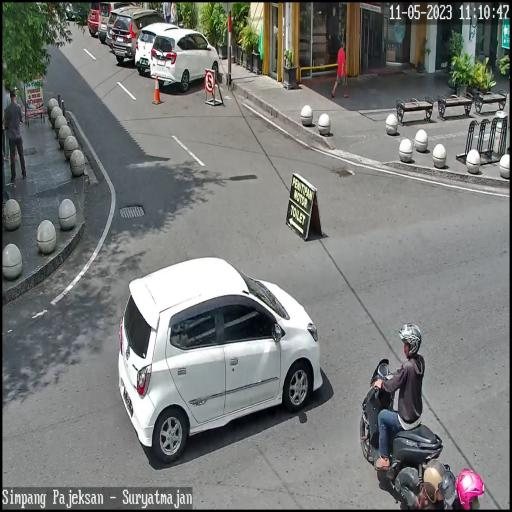mobil: (115, 256, 327, 466), (152, 28, 218, 91), (111, 11, 167, 71), (136, 17, 177, 73)
motor: (359, 352, 444, 498)
